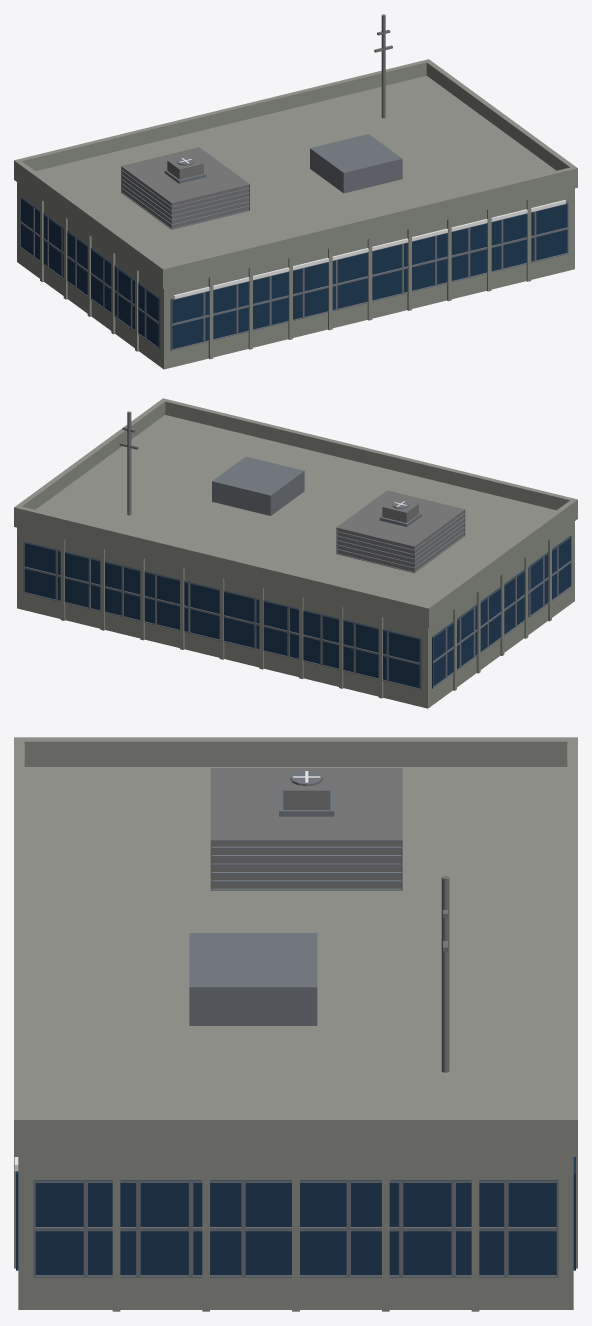
The model's file is mashup-main-top-prebuilt_close.fbx.
3 views of the same model, one above another, from view 1: azimuth 30°, elevation 25°; view 2: azimuth 150°, elevation 25°; view 3: azimuth 270°, elevation 25° (orthographic). The views are drawn at different scales.
Visible parts, largest first — view 1: a201.MainTop.001; view 2: a201.MainTop.001; view 3: a201.MainTop.001.
Boxes of the visible parts, x1,y1,x2,y2 form: a201.MainTop.001: (14,14,577,369); a201.MainTop.001: (14,398,577,708); a201.MainTop.001: (14,737,577,1311).
Bounding box in the file's own units: 21.2 × 9.3 × 13.2.
